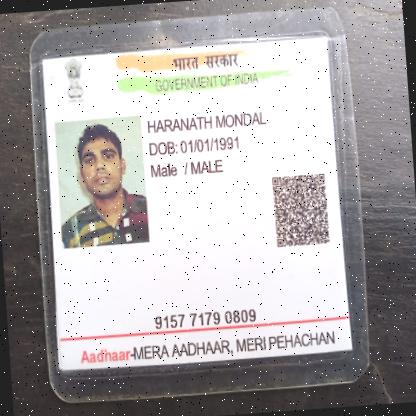aadhaar_card: (26, 3, 370, 402)
